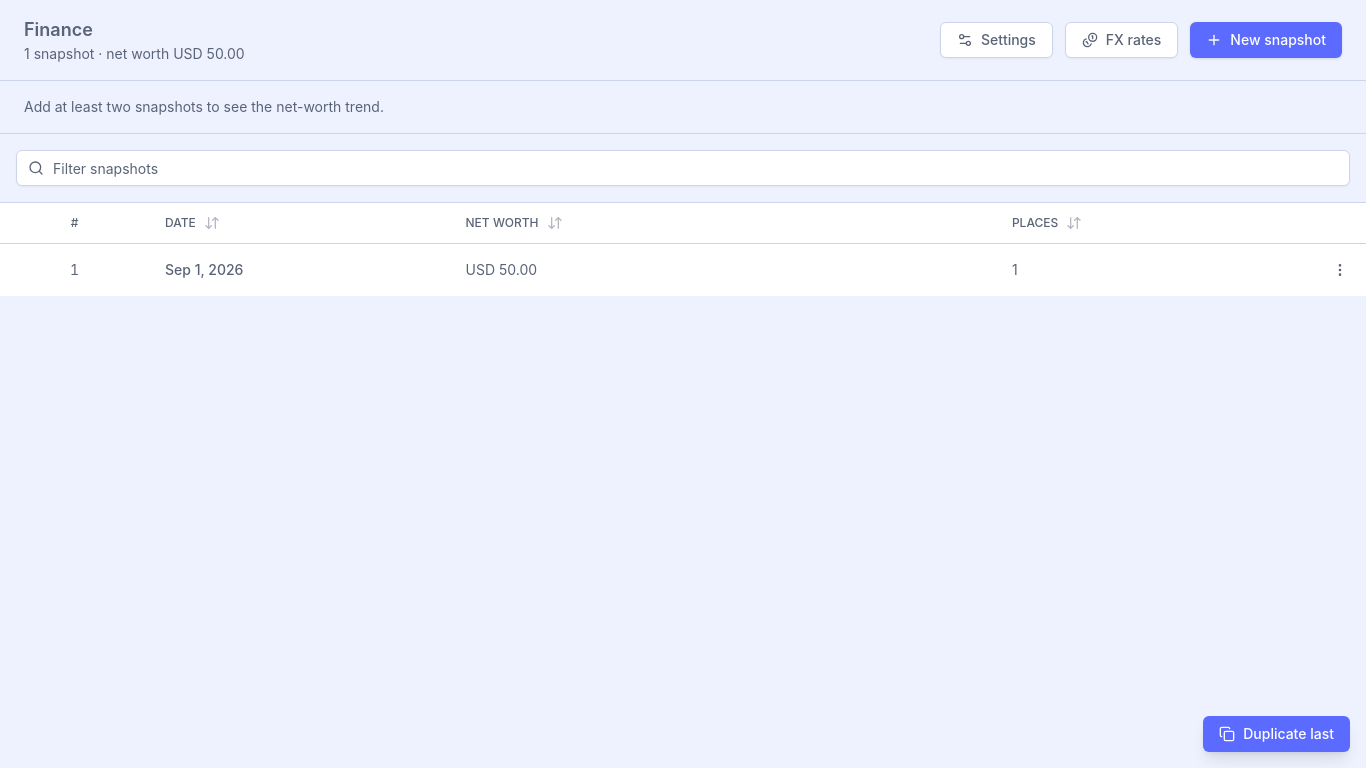
FinanceListView › shows holding due dates in the detail pane
Click the button named "Actions for snapshot Sep 1, 2026" at point(1340, 270), box x1=1322 y1=252 x2=1358 y2=288
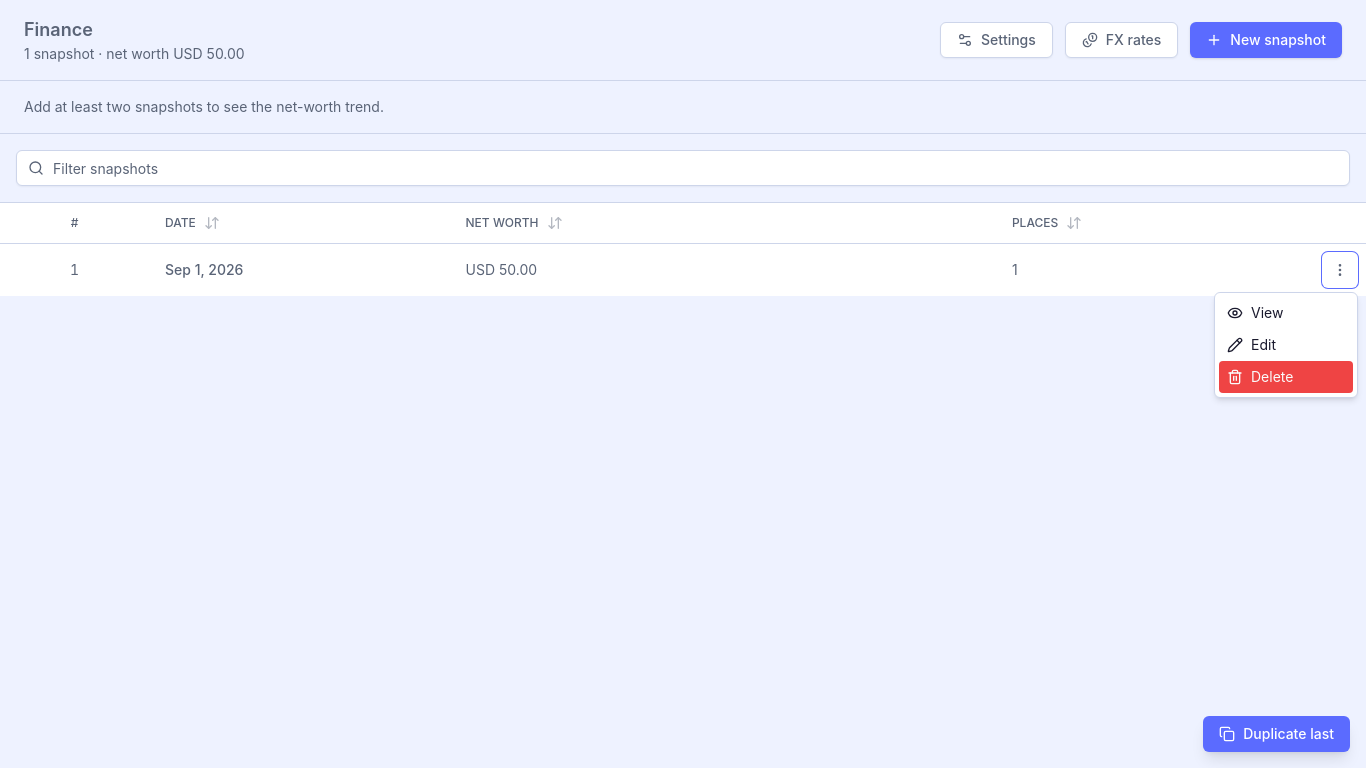
Click the menu item "View" at point(1286, 312), box x1=1219 y1=296 x2=1353 y2=328
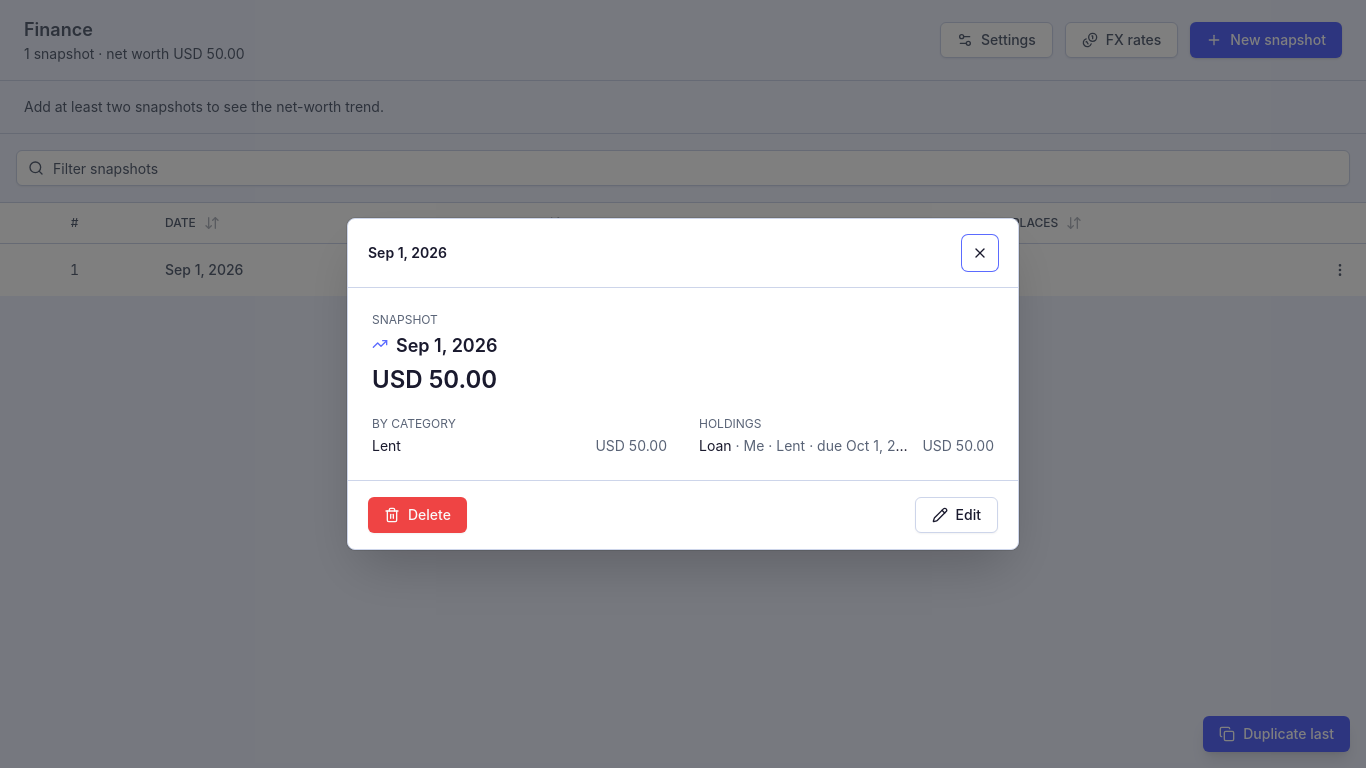
Check: the text "· Me · Lent · due Oct 1, 2026" is shown, box x1=732 y1=437 x2=910 y2=454
